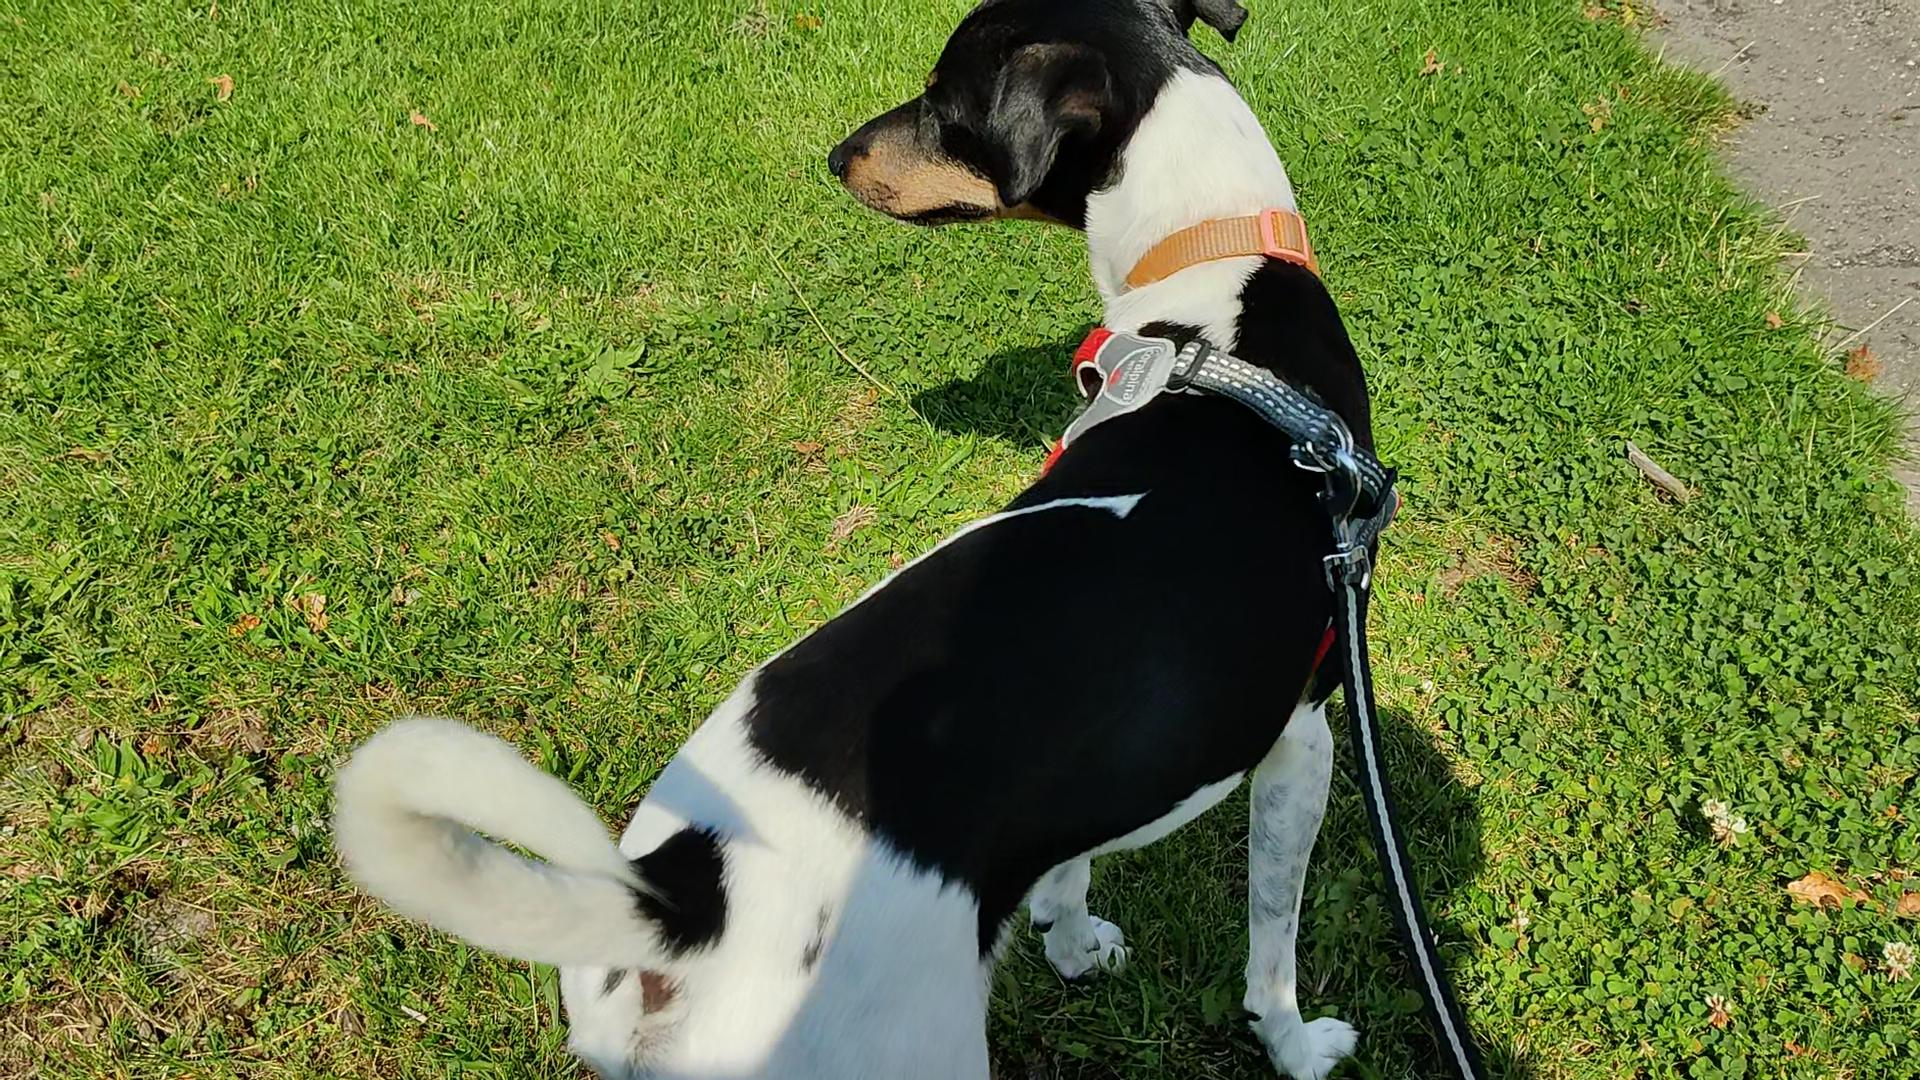Dog: (336, 0, 1400, 1079)
